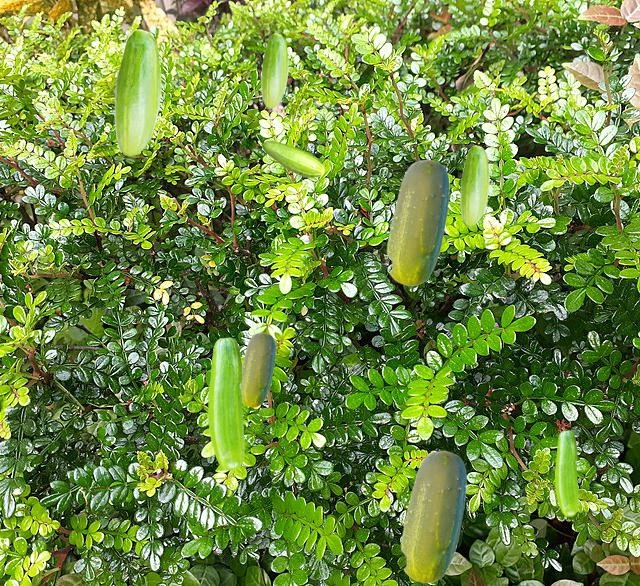cucumber: (400, 450, 465, 582), (386, 159, 448, 285), (114, 29, 160, 155), (208, 337, 243, 469), (242, 332, 274, 406), (262, 140, 324, 177), (460, 145, 488, 225), (261, 33, 287, 107), (555, 430, 577, 515)
